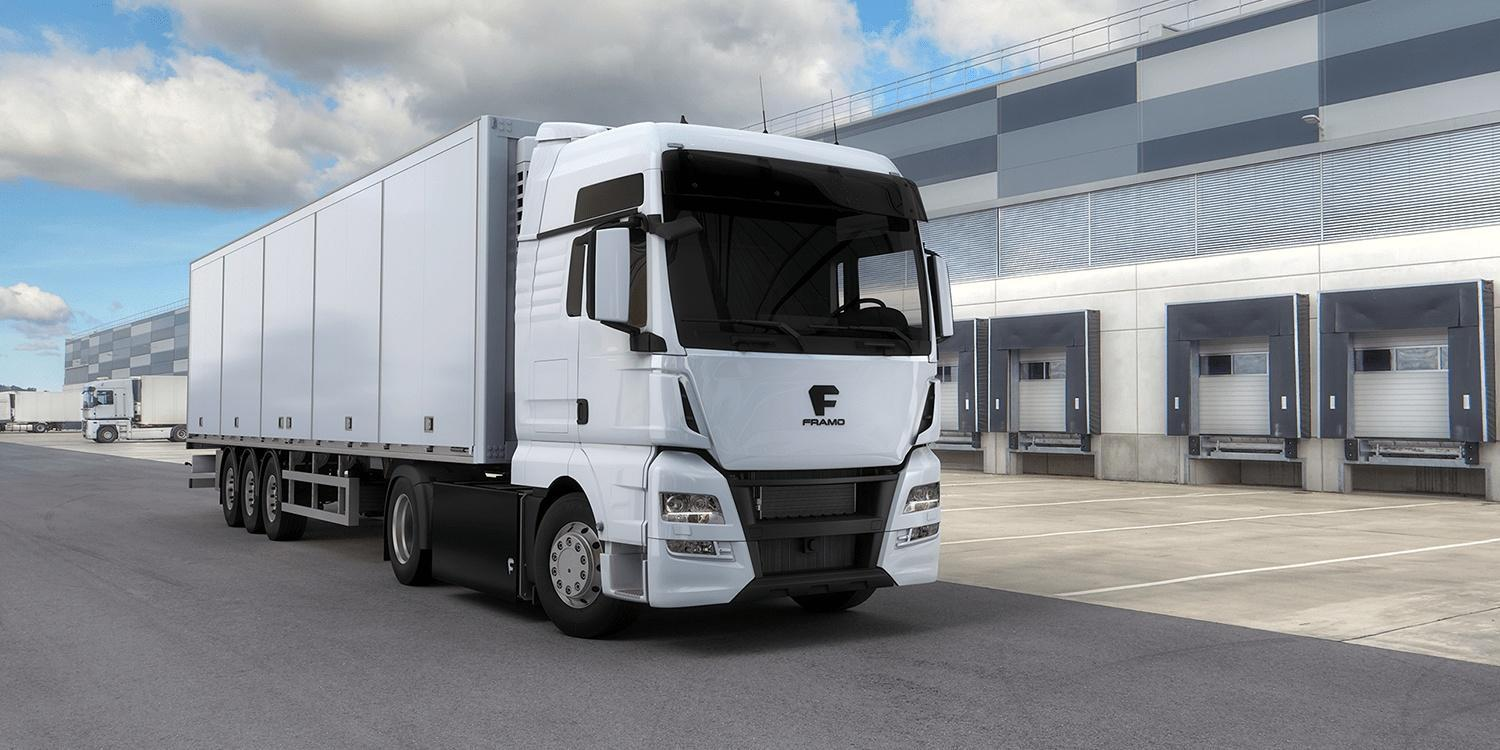truck: (244, 84, 986, 664)
